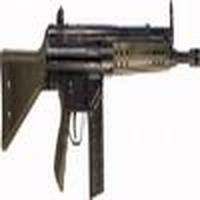gun: (1, 25, 193, 182)
